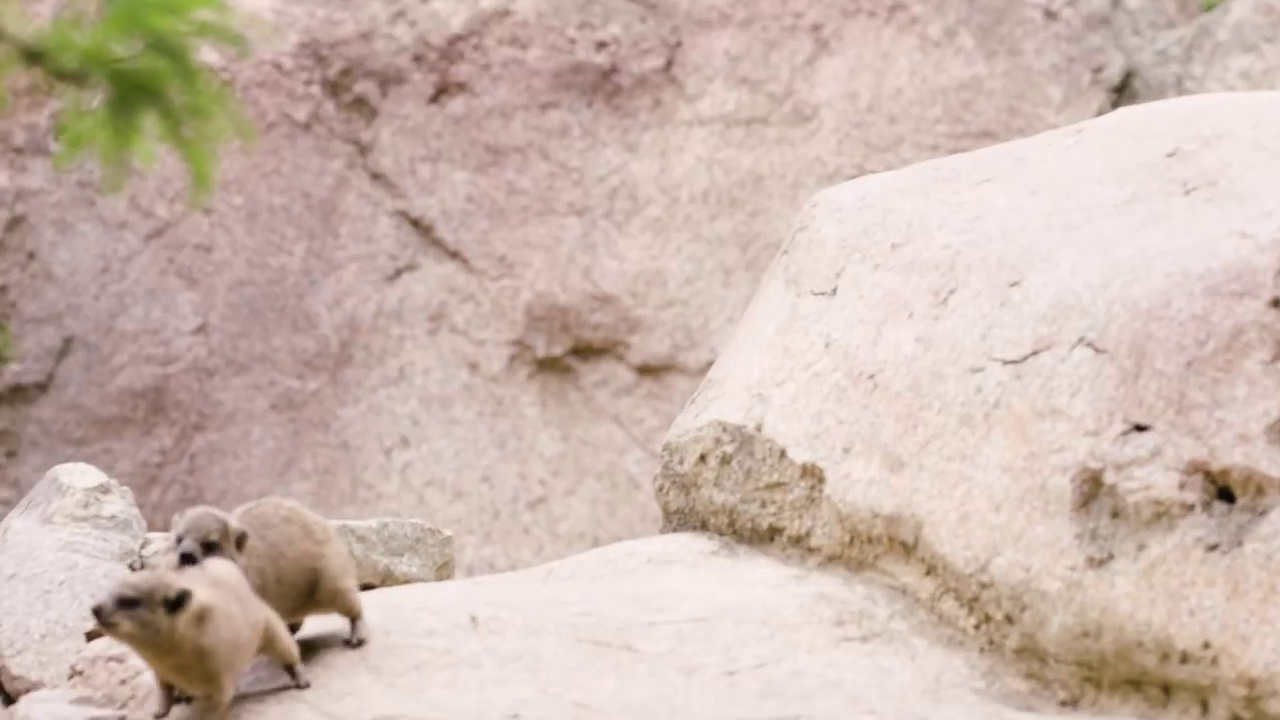Rock Hyrex: (87, 558, 308, 720), (172, 496, 370, 653)
